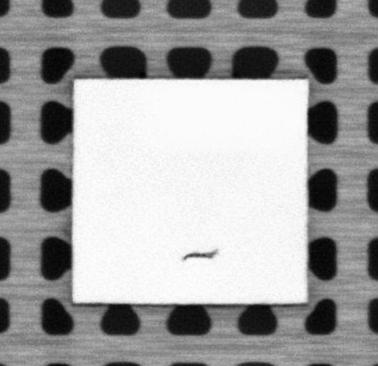DIE_INK: (182, 247, 218, 262)
